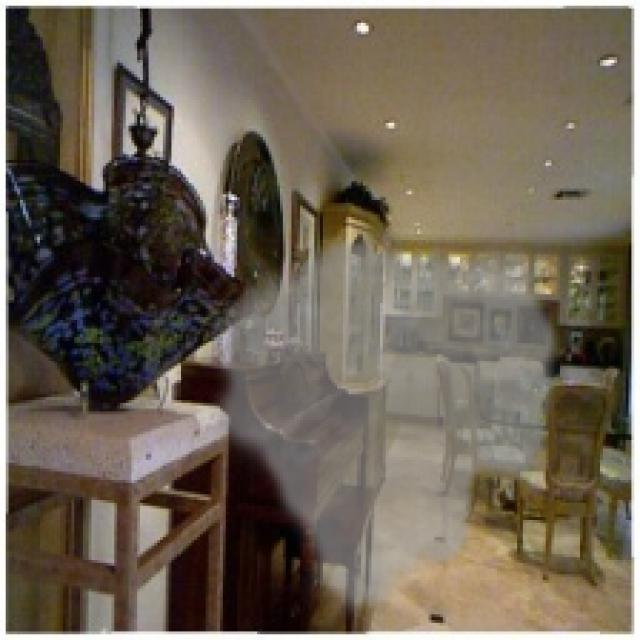smoke: (203, 231, 566, 623)
